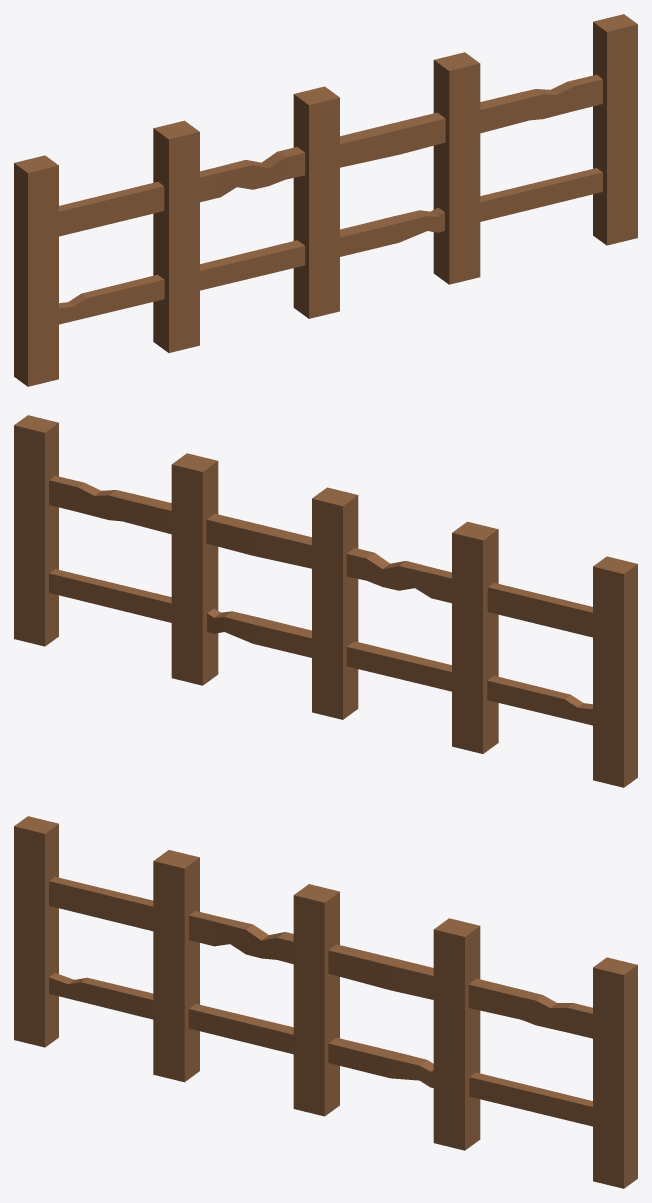
The model's file is Fence.glb.
3 renders of one model, top to bottom at view 1: azimuth 30°, elevation 25°; view 2: azimuth 150°, elevation 25°; view 3: azimuth 330°, elevation 25°, orthographic.
Parts seen in each view (by area): view 1: Fence; view 2: Fence; view 3: Fence.
Boxes of the visible parts, bbox=[...] form: Fence: bbox=[14, 14, 637, 386]; Fence: bbox=[14, 415, 637, 787]; Fence: bbox=[14, 816, 637, 1188].
Bounding box in the file's own units: 3.28 × 1.1 × 0.1428.
